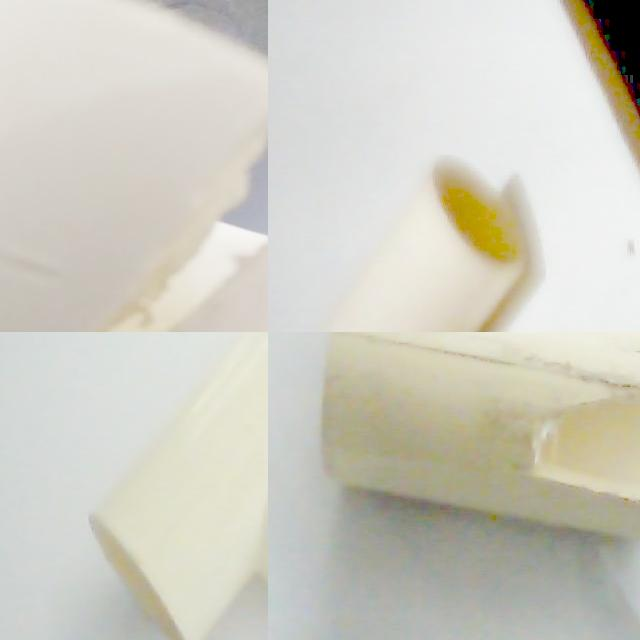Defective: (0, 207, 259, 332), (504, 345, 640, 527), (230, 62, 268, 273)
T Joint: (320, 332, 640, 544), (87, 332, 268, 640), (322, 158, 527, 332)
